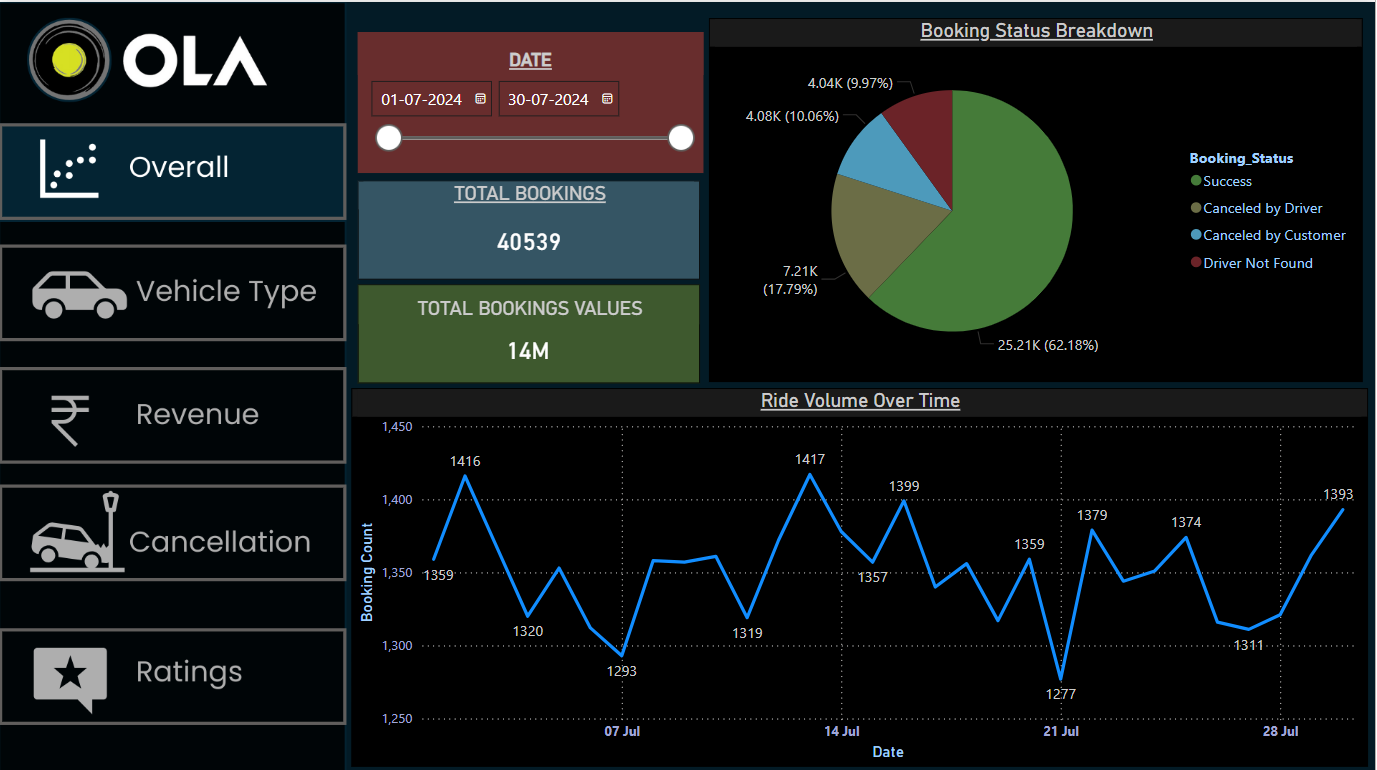

What the dashboard file says about the page in this screenshot:
{"tool":"powerbi","page":{"name":"Overall","canvas":[1280,720],"ordinal":0},"visuals":[{"type":"actionButton","box":[0,225.6,323.3,90],"z":0},{"type":"actionButton","box":[0,340,323.3,90],"z":1000},{"type":"actionButton","box":[0,448.9,323.3,90],"z":2000},{"type":"actionButton","box":[0,582.2,323.3,90],"z":3000},{"type":"actionButton","box":[0,113.3,323.3,90],"z":4000},{"type":"lineChart","title":"Ride Volume Over Time","fields":{"Y":["CountNonNull(July.Booking_ID)"],"Category":["July.Date"]},"box":[327.9,359.3,945.4,352.3],"z":5000},{"type":"pieChart","title":"Booking Status Breakdown","fields":{"Category":["July.Booking_Status"],"Y":["CountNonNull(July.Booking_Status)"]},"box":[660.5,15.1,608.1,338.4],"z":6000},{"type":"slicer","title":"DATE","fields":{"Values":["July.Date"]},"box":[333.7,27.4,321.4,131.3],"z":7000},{"type":"card","title":"TOTAL BOOKINGS","fields":{"Values":["CountNonNull(July.Booking_ID)"]},"box":[333.7,166.3,318.6,91.9],"z":8000},{"type":"card","title":"TOTAL BOOKINGS VALUES","fields":{"Values":["Sum(July.Booking_Value)"]},"box":[333.7,262.8,318.6,91.9],"z":9000}]}

Visuals, with their boxes in screenshot pixels (x1, y1, x2, y2), scaled from the page's 1280x720 canvas onto the 1377x770 screenshot:
actionButton: (x1=0, y1=241, x2=348, y2=338)
actionButton: (x1=0, y1=364, x2=348, y2=460)
actionButton: (x1=0, y1=480, x2=348, y2=576)
actionButton: (x1=0, y1=623, x2=348, y2=719)
actionButton: (x1=0, y1=121, x2=348, y2=217)
"Ride Volume Over Time" lineChart: (x1=353, y1=384, x2=1370, y2=761)
"Booking Status Breakdown" pieChart: (x1=711, y1=16, x2=1365, y2=378)
"DATE" slicer: (x1=359, y1=29, x2=705, y2=170)
"TOTAL BOOKINGS" card: (x1=359, y1=178, x2=702, y2=276)
"TOTAL BOOKINGS VALUES" card: (x1=359, y1=281, x2=702, y2=379)
